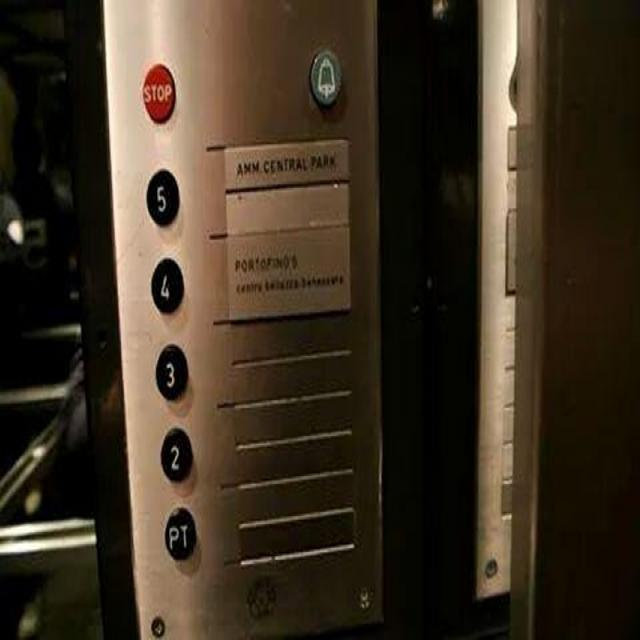2: (158, 420, 194, 484)
3: (152, 338, 188, 402)
4: (147, 252, 185, 316)
5: (143, 164, 180, 228)
PT: (159, 502, 195, 566)
alarm: (308, 43, 344, 108)
keyhole: (244, 573, 277, 628)
text_stop: (140, 60, 177, 124)
